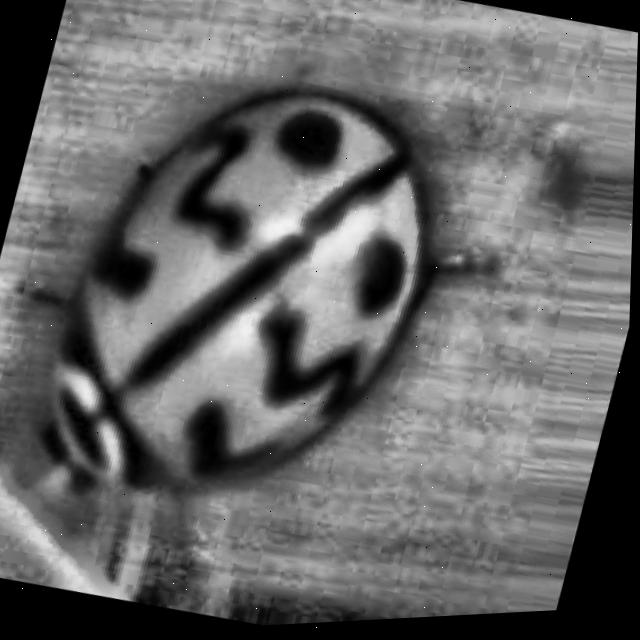Asian-Lady-beetle: (0, 19, 562, 599)
